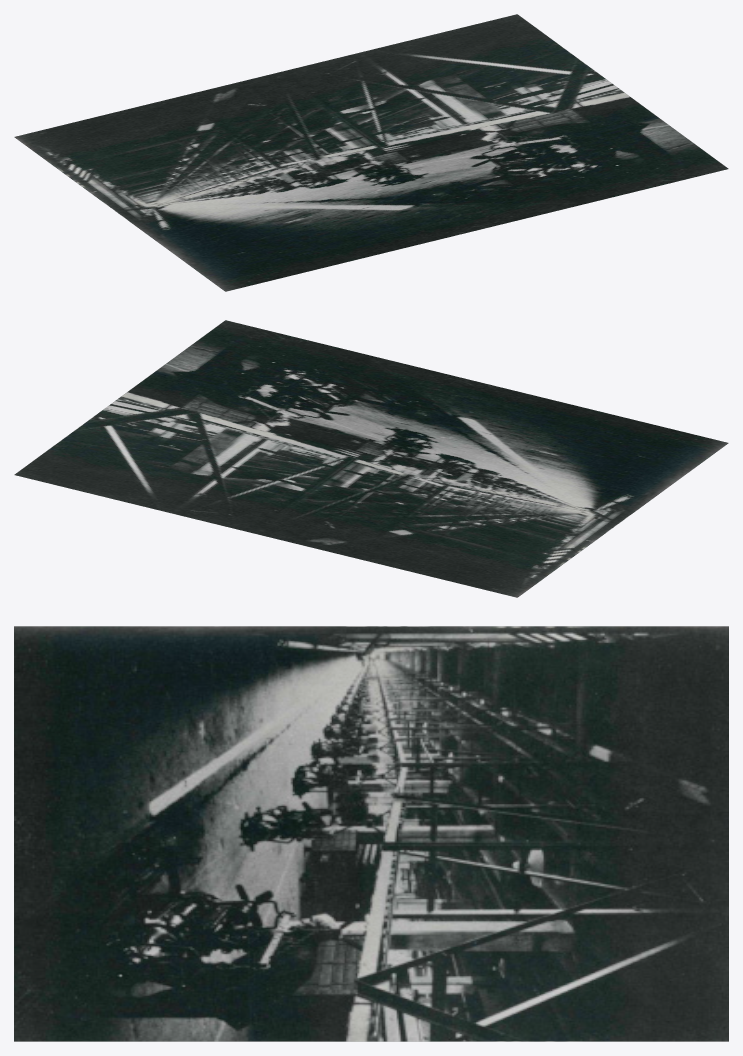
Rendered from 2punto 4.obj.
The picture shows the model from 3 angles, top to bottom: view 1: azimuth 30°, elevation 25°; view 2: azimuth 150°, elevation 25°; view 3: azimuth 270°, elevation 25°; orthographic projection. The views are drawn at different scales.
Visible parts, largest first — view 1: Plane001; view 2: Plane001; view 3: Plane001.
Boxes of the visible parts, bbox=[...] form: Plane001: bbox=[14, 14, 728, 291]; Plane001: bbox=[14, 320, 728, 597]; Plane001: bbox=[14, 626, 728, 1041].
Bounding box in the file's own units: 3.21 × 0 × 2.33.
Materials: 1 (1 with a texture image).
